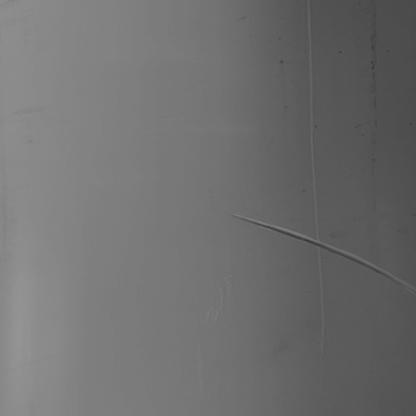sunshang: (233, 215, 415, 293)
